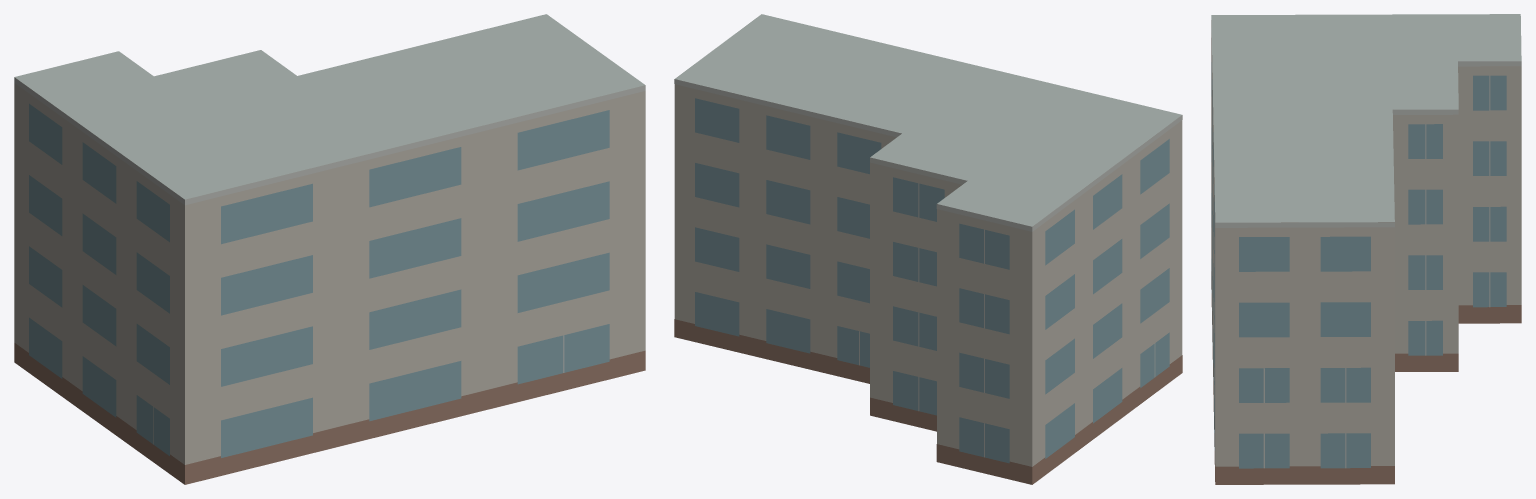
File: residential-266920e0-1202-4202-9f5f-9ee2bd179d1d.glb
3 renders of one model, left to right at view 1: azimuth 30°, elevation 25°; view 2: azimuth 150°, elevation 25°; view 3: azimuth 270°, elevation 25°, orthographic. The views are drawn at different scales.
Visible parts, largest first — view 1: residential-266920e0-1202-4202-9f5f-9ee2bd179d1d.tmp; view 2: residential-266920e0-1202-4202-9f5f-9ee2bd179d1d.tmp; view 3: residential-266920e0-1202-4202-9f5f-9ee2bd179d1d.tmp.
Boxes of the visible parts, bbox=[...] form: residential-266920e0-1202-4202-9f5f-9ee2bd179d1d.tmp: bbox=[14, 14, 645, 484]; residential-266920e0-1202-4202-9f5f-9ee2bd179d1d.tmp: bbox=[674, 14, 1182, 484]; residential-266920e0-1202-4202-9f5f-9ee2bd179d1d.tmp: bbox=[1211, 14, 1521, 484].
Bounding box in the file's own units: 20.83 × 12.2 × 13.09.
